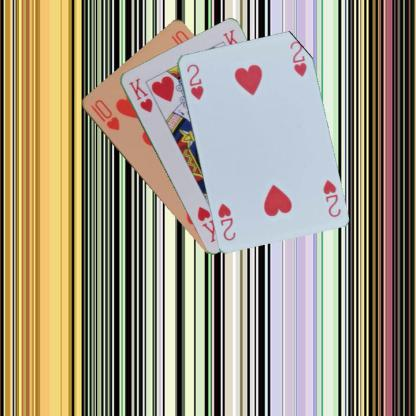10h: (87, 96, 121, 132)
2h: (320, 177, 342, 218), (184, 61, 204, 101)
Kh: (125, 75, 154, 114)
